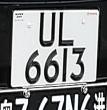1: (60, 46, 71, 83)
3: (68, 46, 87, 79)
6: (23, 49, 44, 85), (42, 49, 61, 84)
L: (56, 7, 76, 49)
U: (36, 8, 59, 49)
